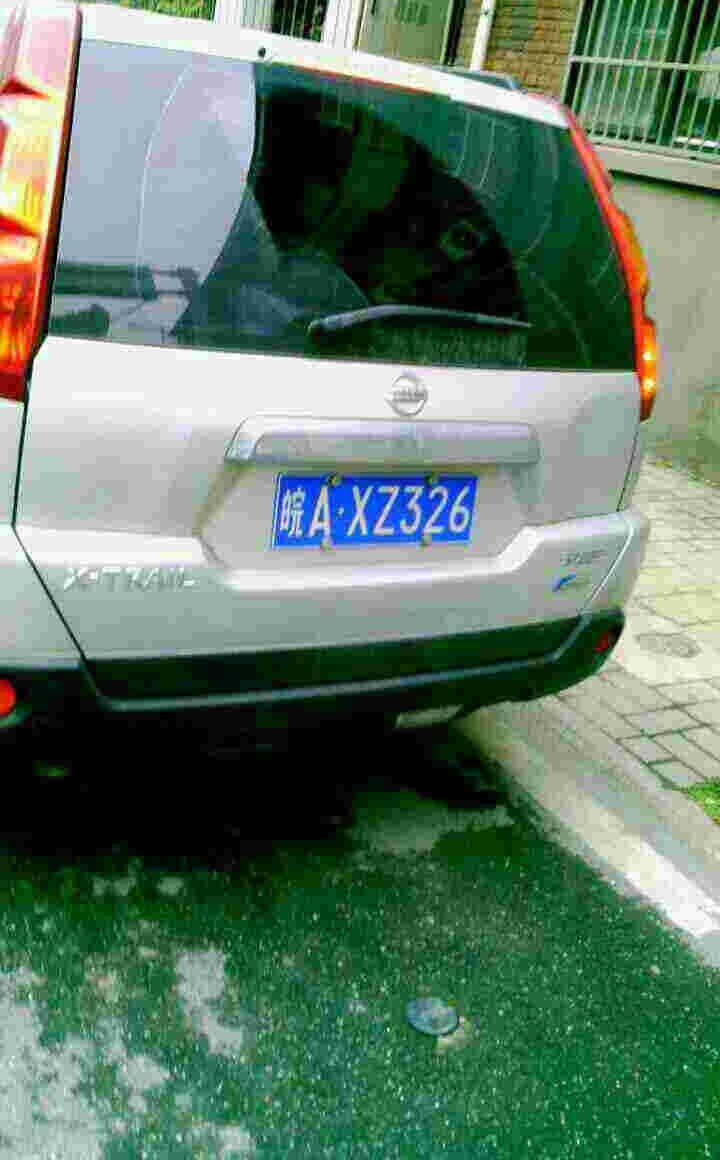car: (275, 465, 493, 550)
